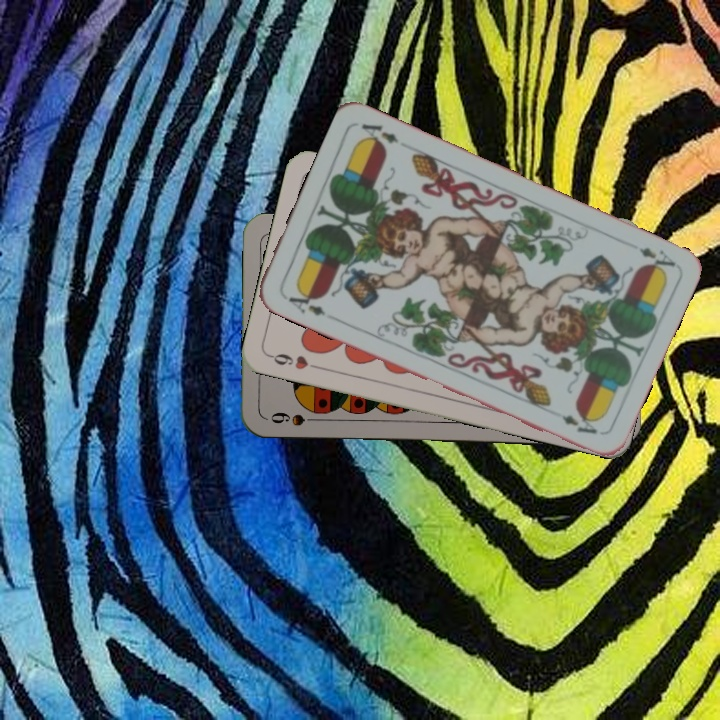EA: (284, 285, 328, 319), (635, 243, 678, 276)
H9: (265, 349, 324, 372)
S9: (266, 407, 324, 429)
